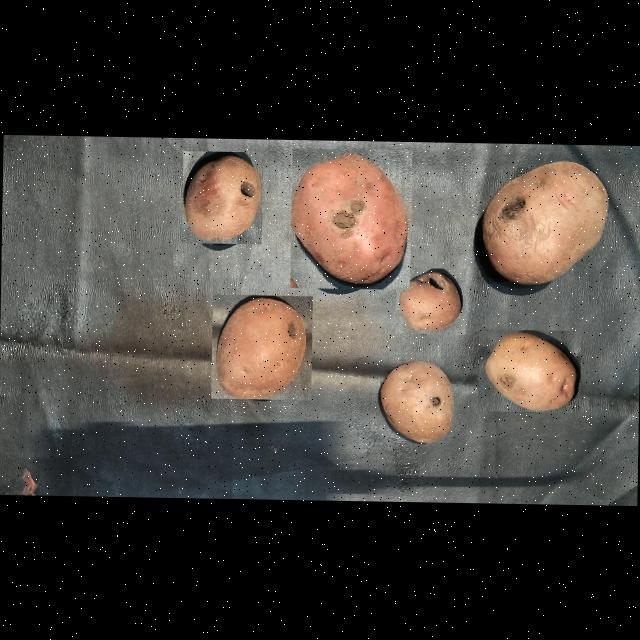Defected potato: (290, 148, 412, 290), (210, 294, 312, 400)
Diseased-fungal potato: (476, 155, 610, 289), (478, 328, 580, 412), (181, 151, 263, 244), (378, 356, 458, 447), (395, 268, 466, 334)
